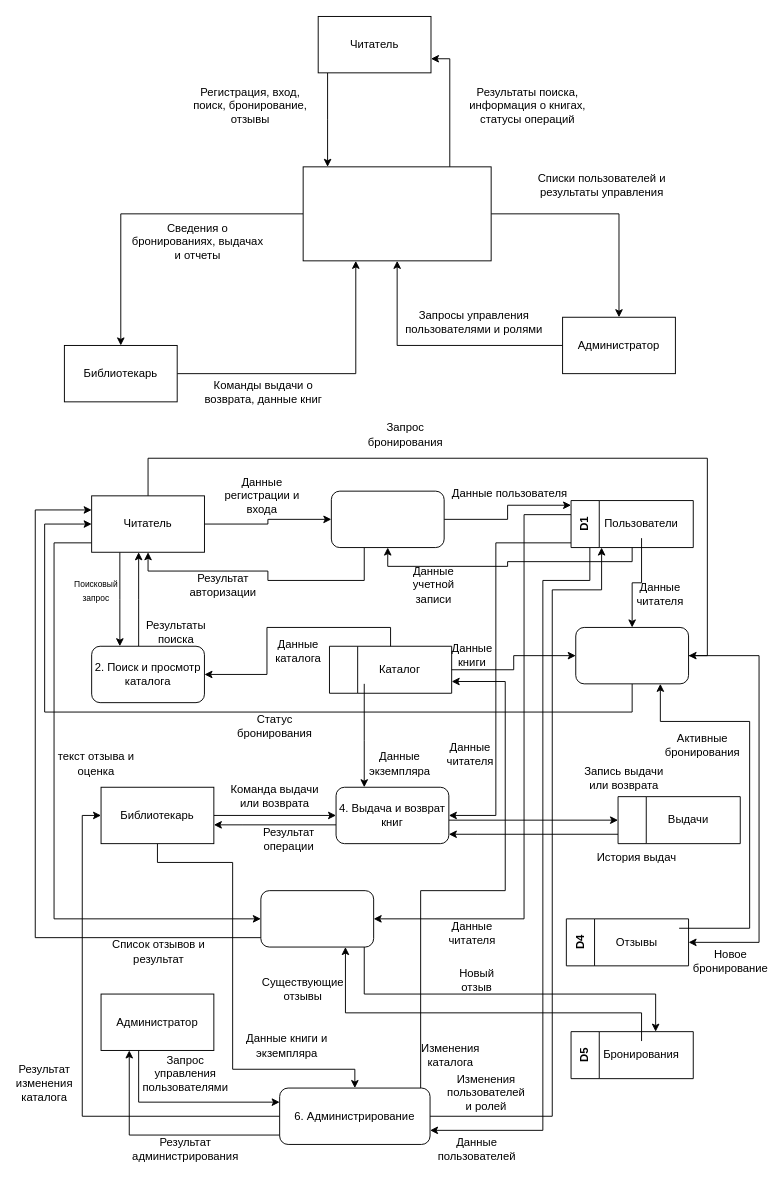
The diagram is 784 pixels wide and 1180 high, and some of its shapes have lost their labels. The shapes that lost their labels are listed below. From the top down, each one's box as (x1, y1, x2, y2) in pixels, then its label:
(302, 166, 491, 261): 0 Электронная библиотека колледжа
(330, 490, 444, 548): 1. Регистрация и авторизация
(329, 645, 452, 693): D2
(575, 627, 689, 684): 3. Бронирование книг
(617, 796, 740, 844): D3
(260, 890, 374, 947): 5. Работа с отзывами
